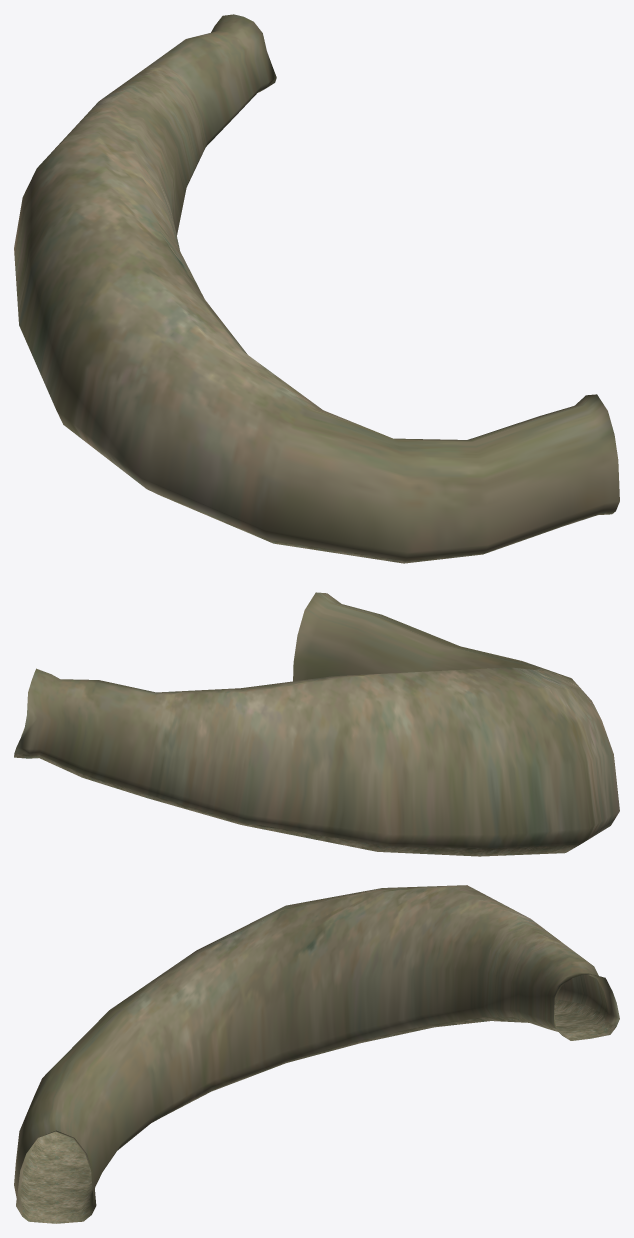
Rendered from EKH_JAIL_PS_JA_GR_LINE171.fbx.
3 views of the same model, one above another, from view 1: azimuth 30°, elevation 25°; view 2: azimuth 150°, elevation 25°; view 3: azimuth 270°, elevation 25° (orthographic). The views are drawn at different scales.
Parts seen in each view (by area): view 1: EKH_JAIL_PS_JA_GR_LINE171; view 2: EKH_JAIL_PS_JA_GR_LINE171; view 3: EKH_JAIL_PS_JA_GR_LINE171.
Part boxes in pixels (x1,y1,x2,y2): EKH_JAIL_PS_JA_GR_LINE171: (14,14,619,563); EKH_JAIL_PS_JA_GR_LINE171: (14,592,619,856); EKH_JAIL_PS_JA_GR_LINE171: (14,885,619,1223).
Bounding box in the file's own units: 128588 × 86451 × 198787.
Materials: 1 (1 with a texture image).
